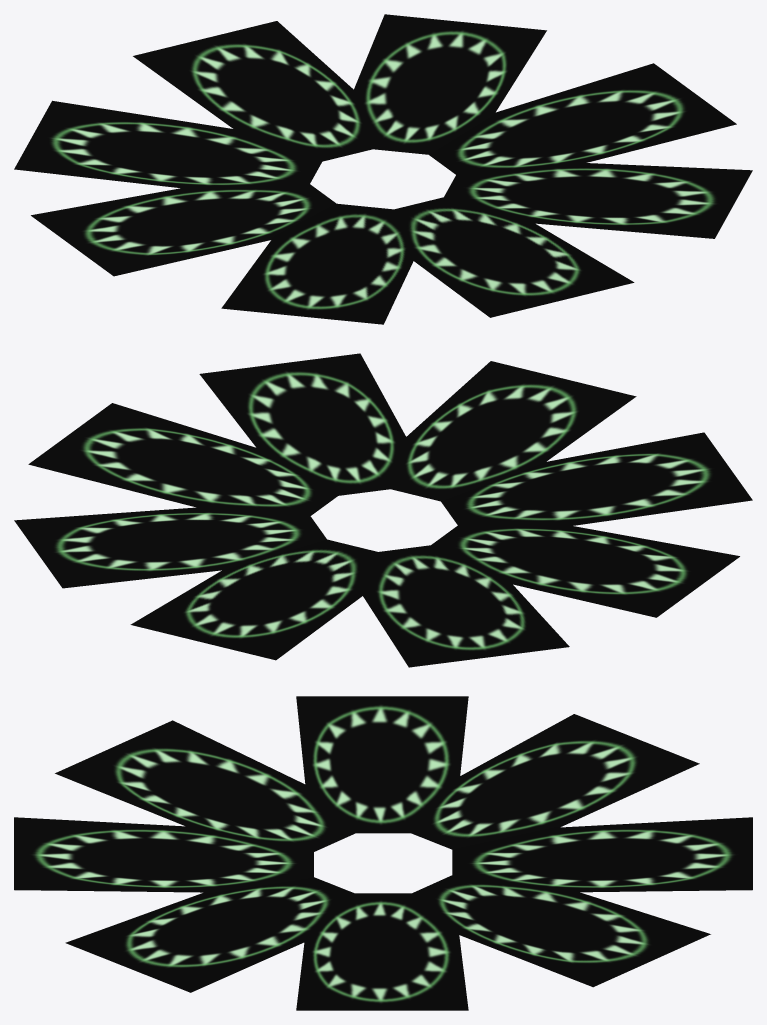
Rendered from BlightwalkerAura_g0.fbx.
3 views of the same model, one above another, from view 1: azimuth 30°, elevation 25°; view 2: azimuth 150°, elevation 25°; view 3: azimuth 270°, elevation 25° (orthographic). The views are drawn at different scales.
Parts seen in each view (by area): view 1: BlightwalkerAura_g0_L0_add; view 2: BlightwalkerAura_g0_L0_add; view 3: BlightwalkerAura_g0_L0_add.
Part boxes in pixels (left/top/right/bottom): BlightwalkerAura_g0_L0_add: left=14, top=14, right=752, bottom=324; BlightwalkerAura_g0_L0_add: left=14, top=353, right=752, bottom=667; BlightwalkerAura_g0_L0_add: left=14, top=696, right=752, bottom=1010.
Size of the model in its own units: 2.01 by 0.0301 by 1.99.
